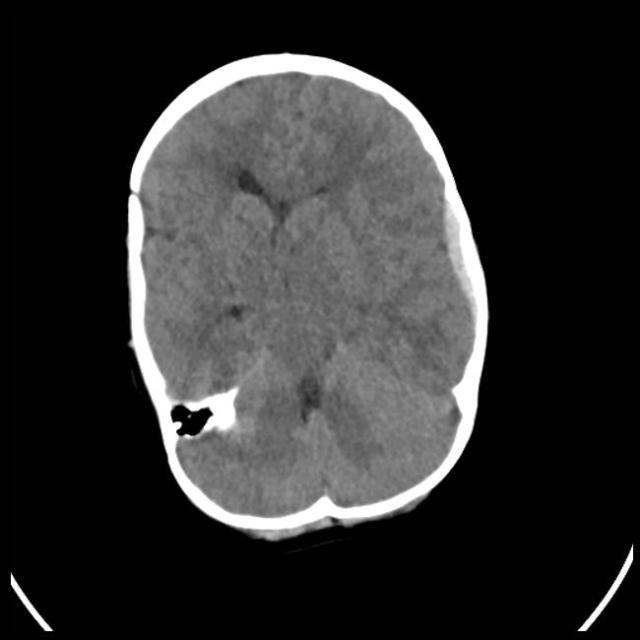lesion: (427, 170, 496, 358)
